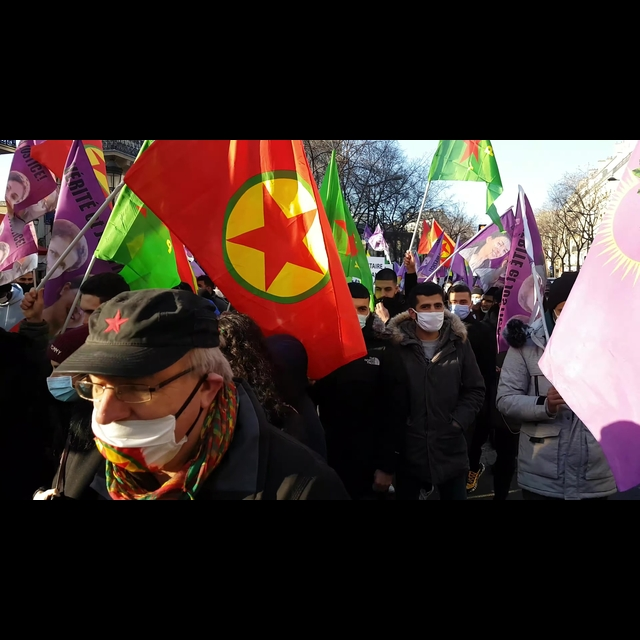PKK: (221, 166, 332, 303)
